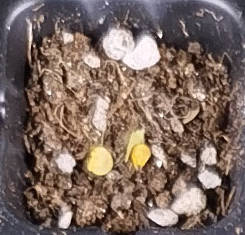pepper seed: (54, 58, 207, 229), (29, 56, 144, 232)
